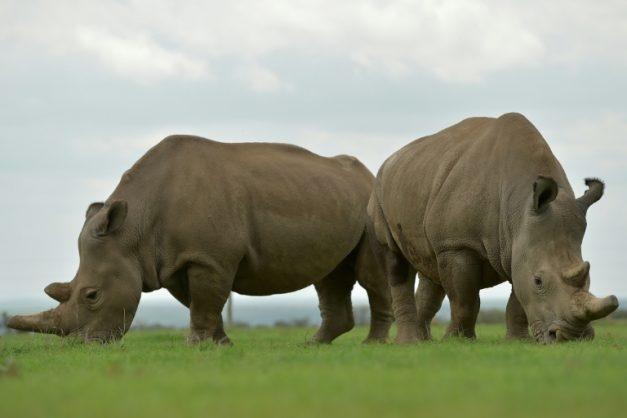rhino: (5, 133, 389, 348), (364, 111, 619, 345)
